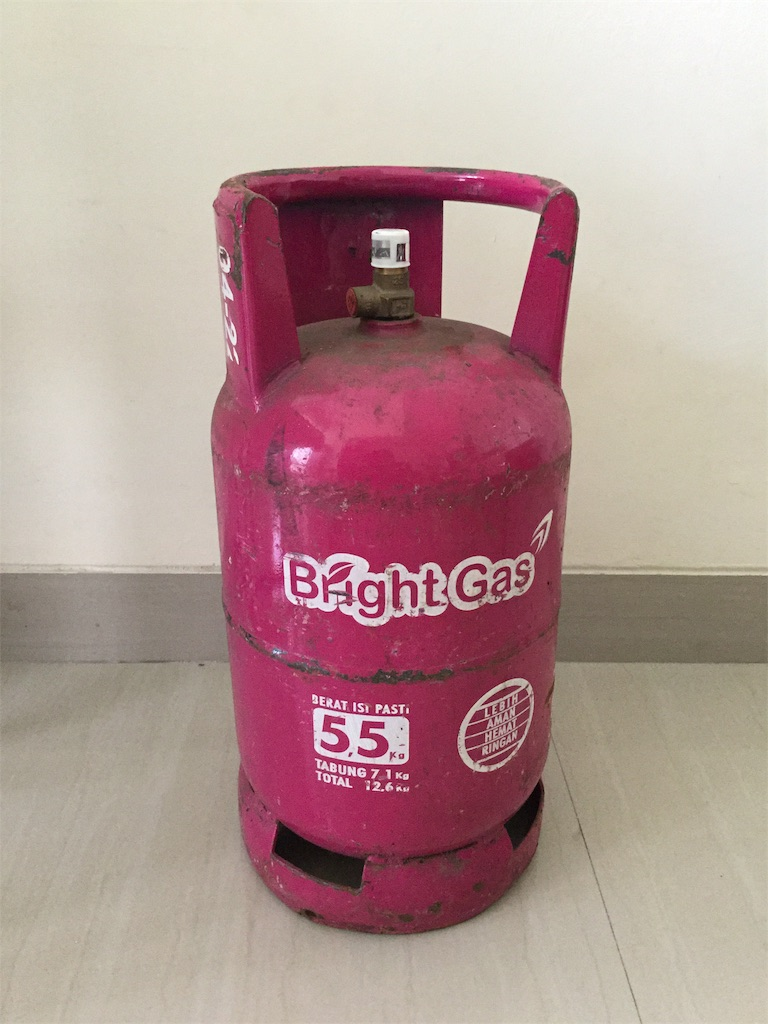bright_gas: (210, 166, 579, 941)
